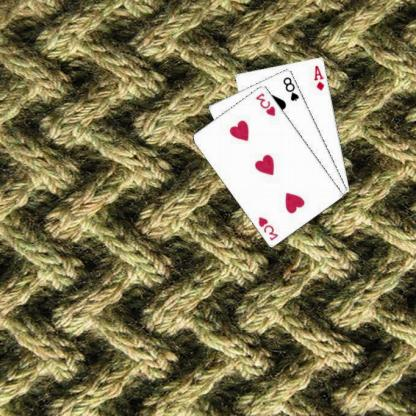3H: (258, 214, 282, 242), (255, 90, 279, 117)
8S: (282, 74, 302, 102)
AD: (313, 63, 327, 91)
